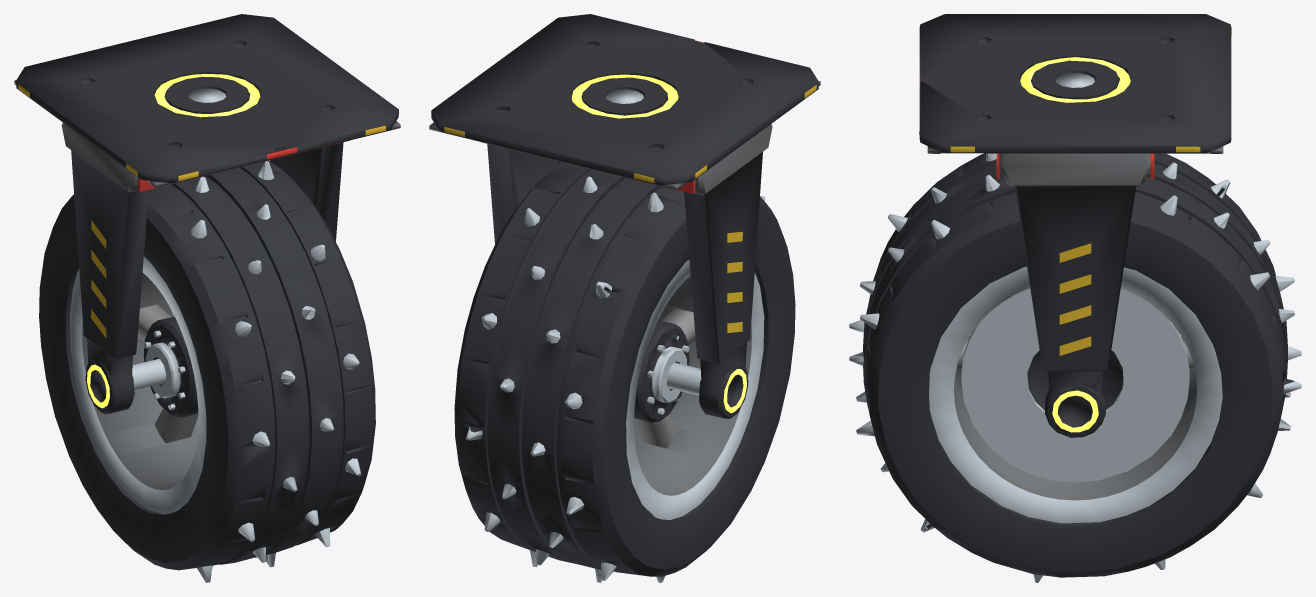
The model's file is R4M_WheelM_Fork_Spiked_LOD1.fbx.
3 renders of one model, left to right at view 1: azimuth 30°, elevation 25°; view 2: azimuth 150°, elevation 25°; view 3: azimuth 270°, elevation 25°, orthographic. The views are drawn at different scales.
Parts seen in each view (by area): view 1: R4M_WheelM_Fork_Spiked_Rotor_LOD1, R4M_WheelM_Fork_Spiked_Mount_LOD1; view 2: R4M_WheelM_Fork_Spiked_Rotor_LOD1, R4M_WheelM_Fork_Spiked_Mount_LOD1; view 3: R4M_WheelM_Fork_Spiked_Rotor_LOD1, R4M_WheelM_Fork_Spiked_Mount_LOD1.
Boxes of the visible parts, x1=… form: R4M_WheelM_Fork_Spiked_Rotor_LOD1: x1=39, y1=160, x2=375, y2=582; R4M_WheelM_Fork_Spiked_Mount_LOD1: x1=14, y1=14, x2=400, y2=413; R4M_WheelM_Fork_Spiked_Rotor_LOD1: x1=454, y1=162, x2=795, y2=582; R4M_WheelM_Fork_Spiked_Mount_LOD1: x1=429, y1=14, x2=820, y2=418; R4M_WheelM_Fork_Spiked_Rotor_LOD1: x1=849, y1=153, x2=1301, y2=582; R4M_WheelM_Fork_Spiked_Mount_LOD1: x1=919, y1=14, x2=1231, y2=437.
Bounding box in the file's own units: 0.5108 × 0.8682 × 0.74.
